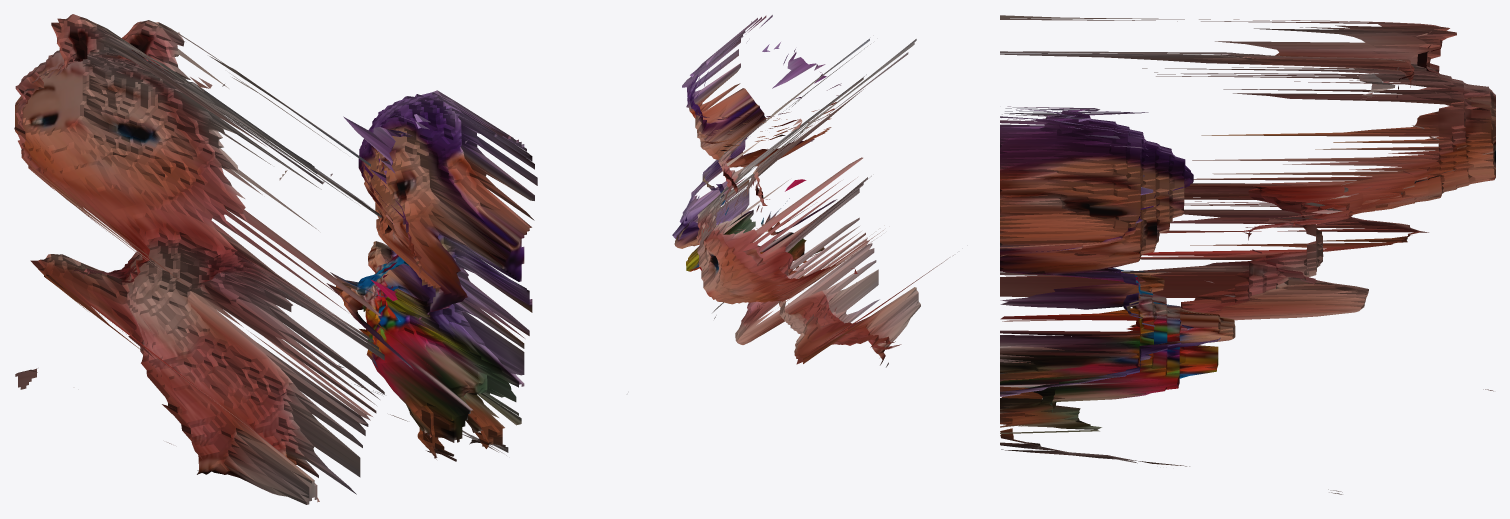
File: frame_00052.glb
3 views of the same model, side by side, from view 1: azimuth 30°, elevation 25°; view 2: azimuth 150°, elevation 25°; view 3: azimuth 270°, elevation 25° (orthographic). The views are drawn at different scales.
Visible parts, largest first — view 1: geometry_0; view 2: geometry_0; view 3: geometry_0.
Boxes of the visible parts, x1,y1,x2,y2 form: geometry_0: [14, 14, 537, 504]; geometry_0: [672, 15, 953, 367]; geometry_0: [1000, 15, 1495, 494].
Size of the model in its own units: 0.11 by 0.1415 by 0.16.
Materials: 1 (1 with a texture image).
